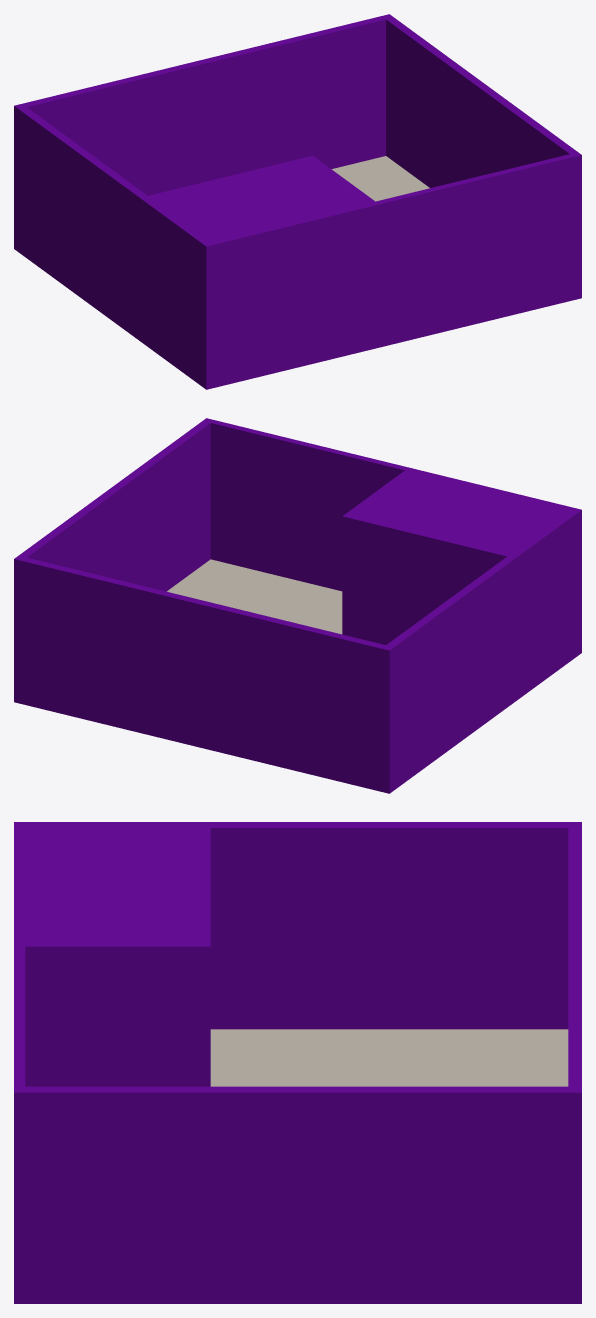
Rendered from Bedroom_wall.fbx.
The picture shows the model from 3 angles, top to bottom: view 1: azimuth 30°, elevation 25°; view 2: azimuth 150°, elevation 25°; view 3: azimuth 270°, elevation 25°; orthographic projection. The views are drawn at different scales.
Visible parts, largest first — view 1: Bedroom; view 2: Bedroom; view 3: Bedroom.
Boxes of the visible parts, bbox=[...] form: Bedroom: bbox=[14, 14, 581, 389]; Bedroom: bbox=[14, 418, 581, 793]; Bedroom: bbox=[14, 822, 581, 1303].
Size of the model in its own units: 608 by 222 by 540.
